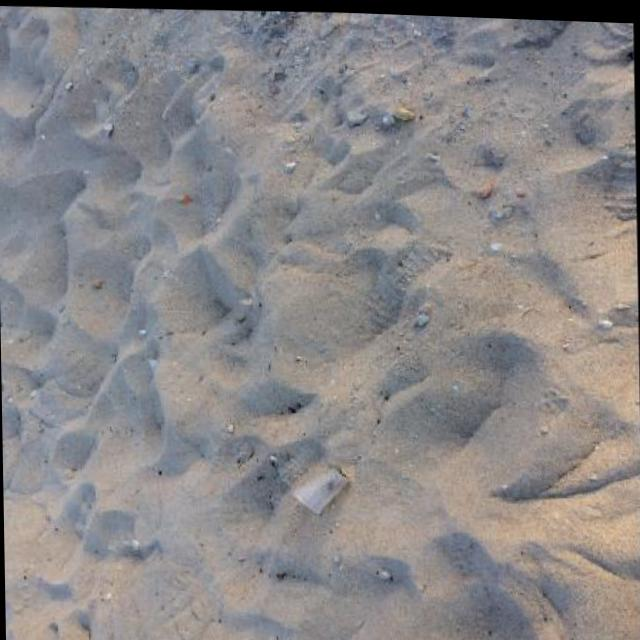plastic: (292, 465, 351, 514)
